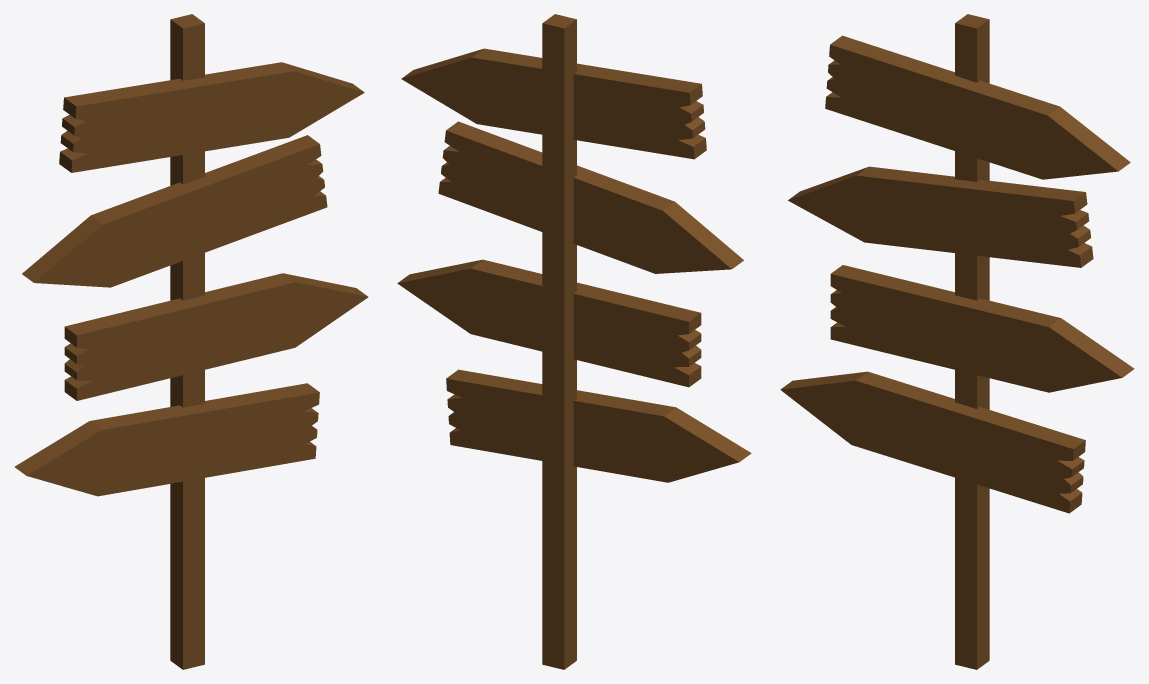
The model's file is Sign_Multi.fbx.
3 views of the same model, side by side, from view 1: azimuth 30°, elevation 25°; view 2: azimuth 150°, elevation 25°; view 3: azimuth 330°, elevation 25° (orthographic).
Parts seen in each view (by area): view 1: Sign_Multi; view 2: Sign_Multi; view 3: Sign_Multi.
Part boxes in pixels (bbox=[...]): Sign_Multi: bbox=[14, 14, 368, 669]; Sign_Multi: bbox=[397, 14, 751, 669]; Sign_Multi: bbox=[780, 14, 1134, 669].
Size of the model in its own units: 2.89 by 5.18 by 0.3188.
